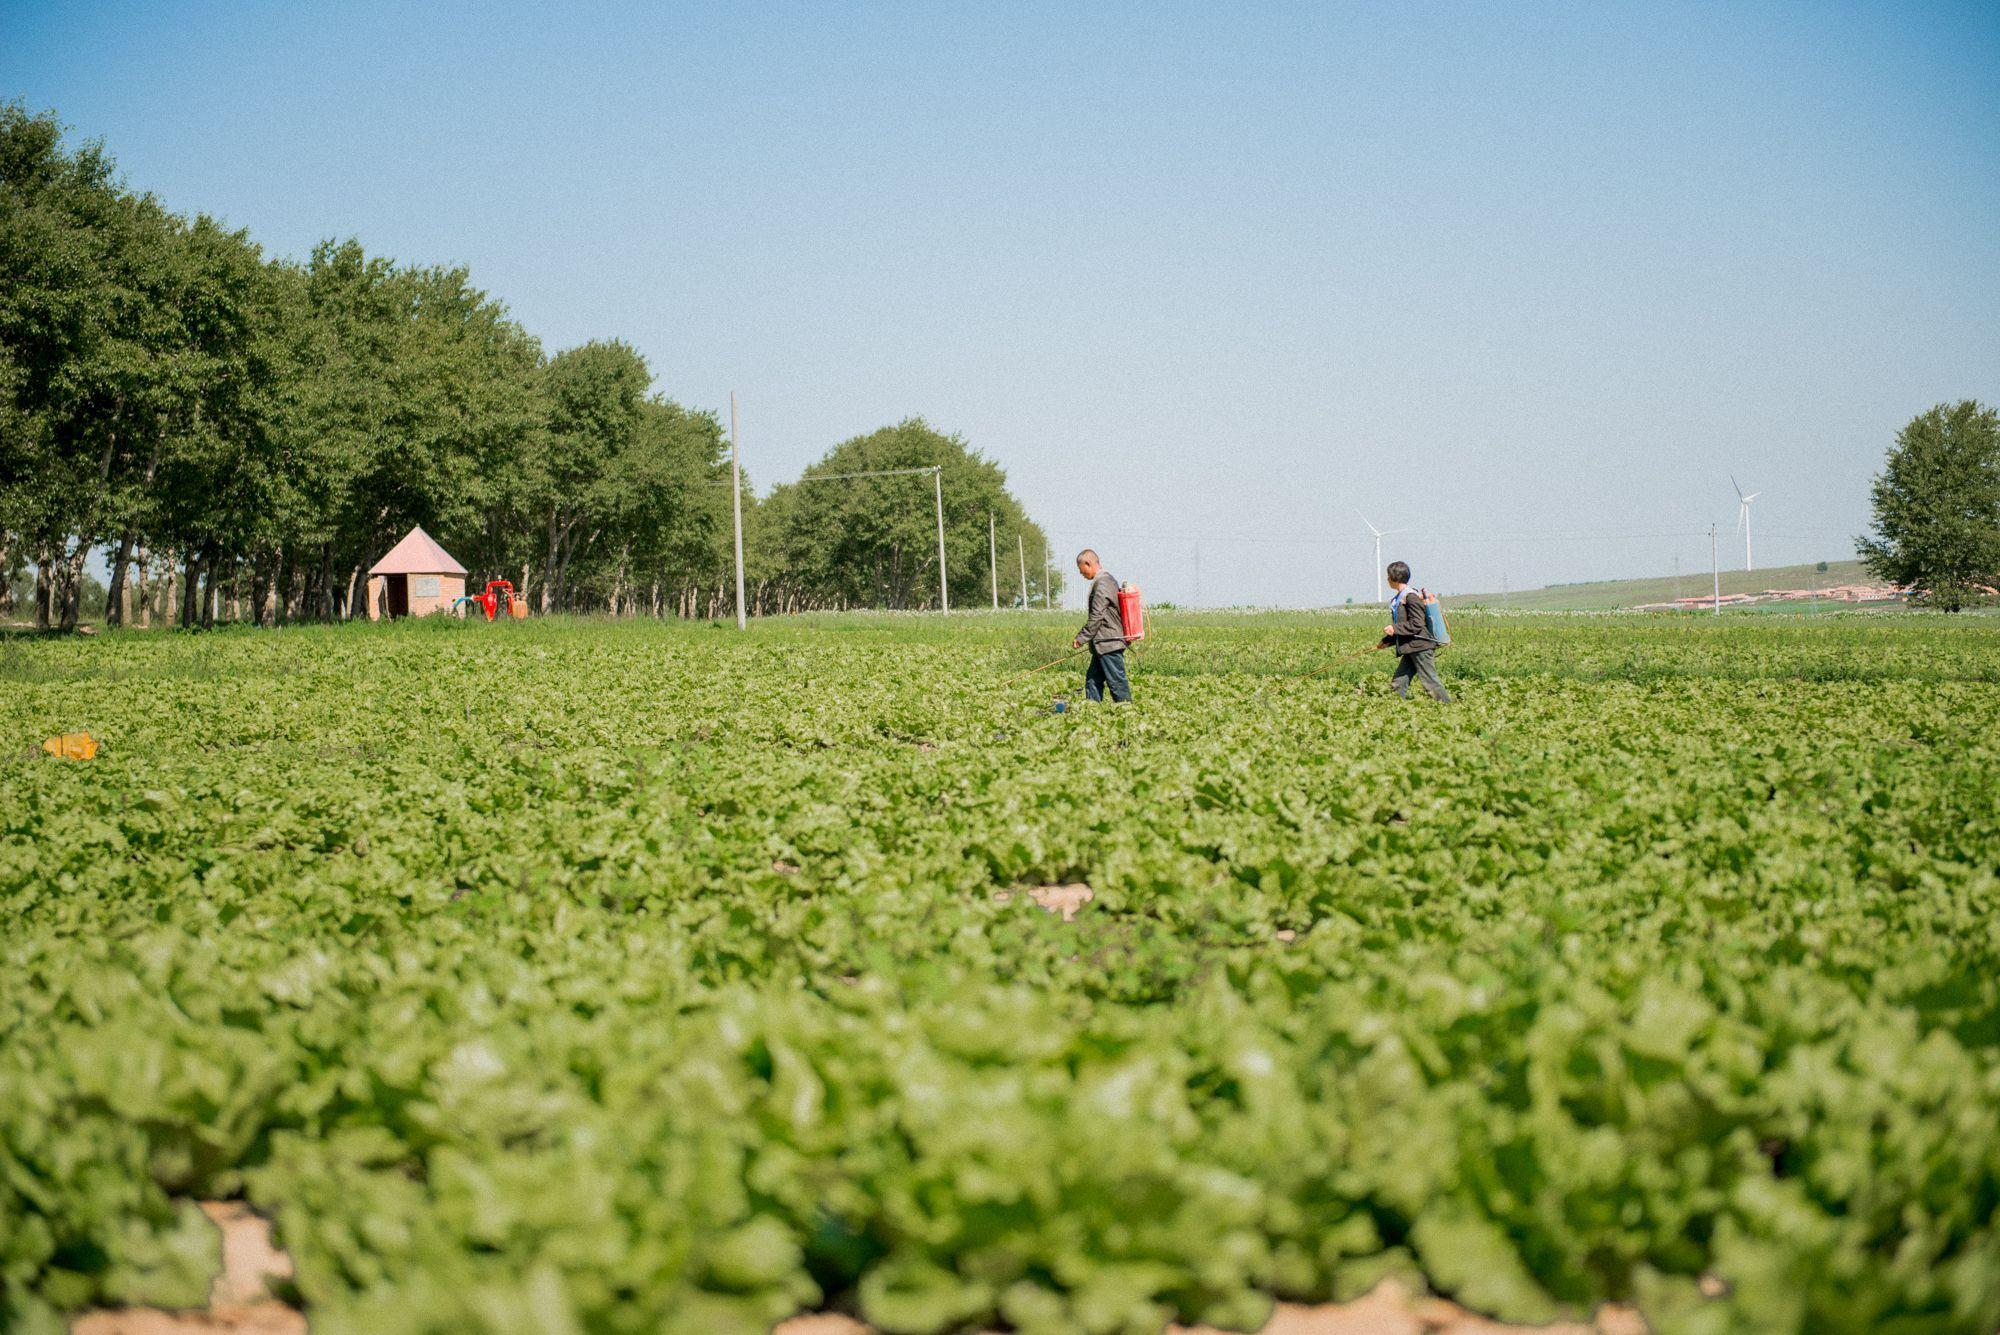berrl: (1114, 580, 1150, 650), (1421, 589, 1452, 651)
